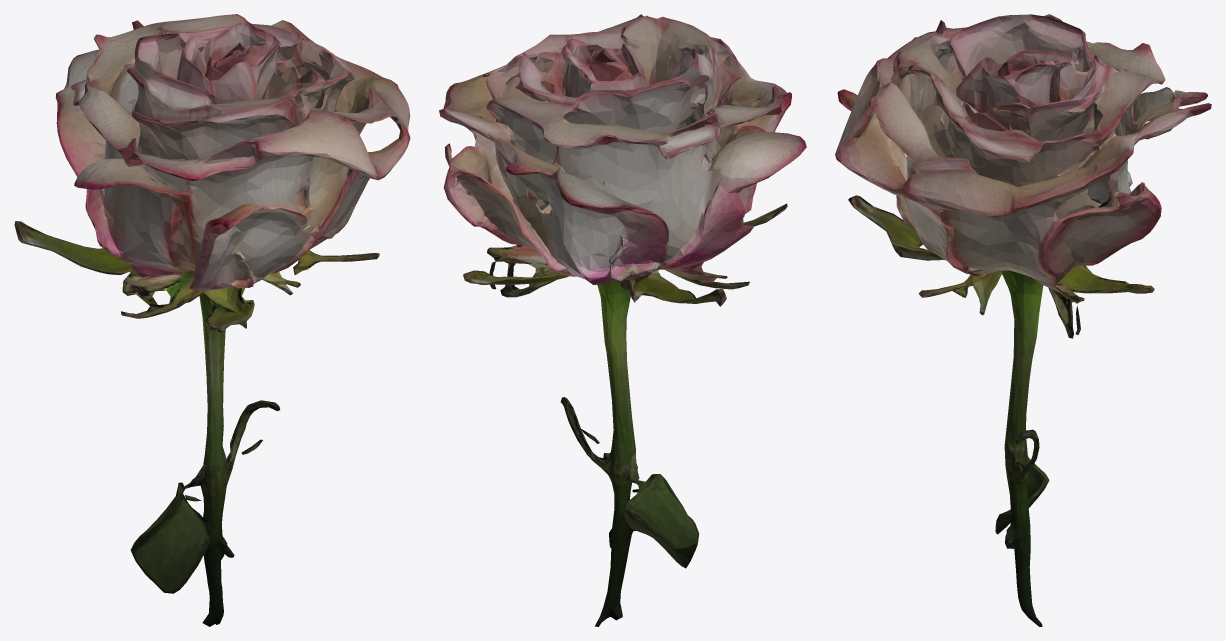
3 renders of one model, left to right at view 1: azimuth 30°, elevation 25°; view 2: azimuth 150°, elevation 25°; view 3: azimuth 270°, elevation 25°, orthographic. The views are drawn at different scales.
Visible parts, largest first — view 1: world; view 2: world; view 3: world.
Part boxes in pixels (x1,y1,x2,y2): world: (14,14,410,626); world: (439,14,806,626); world: (835,14,1211,626).
Size of the model in its own units: 0.5762 by 0.9548 by 0.5627.
Materials: 1 (1 with a texture image).
